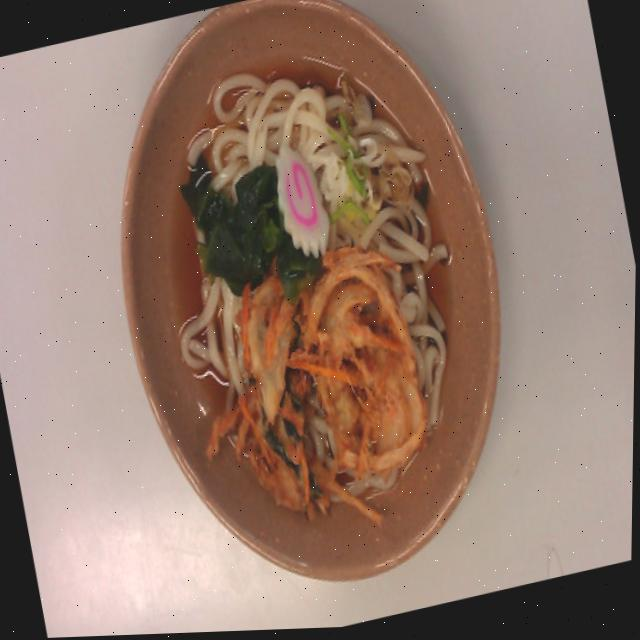面条主食: (59, 0, 560, 638)
